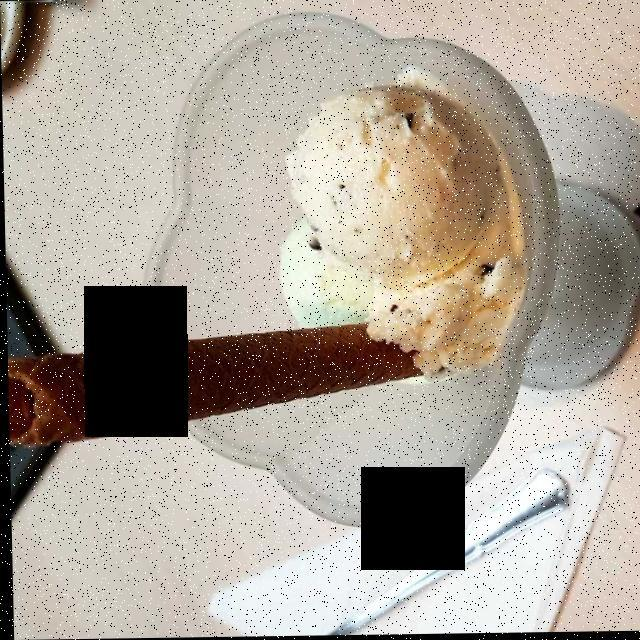biscuits: (10, 326, 416, 442)
ice-cream: (249, 64, 547, 380)
